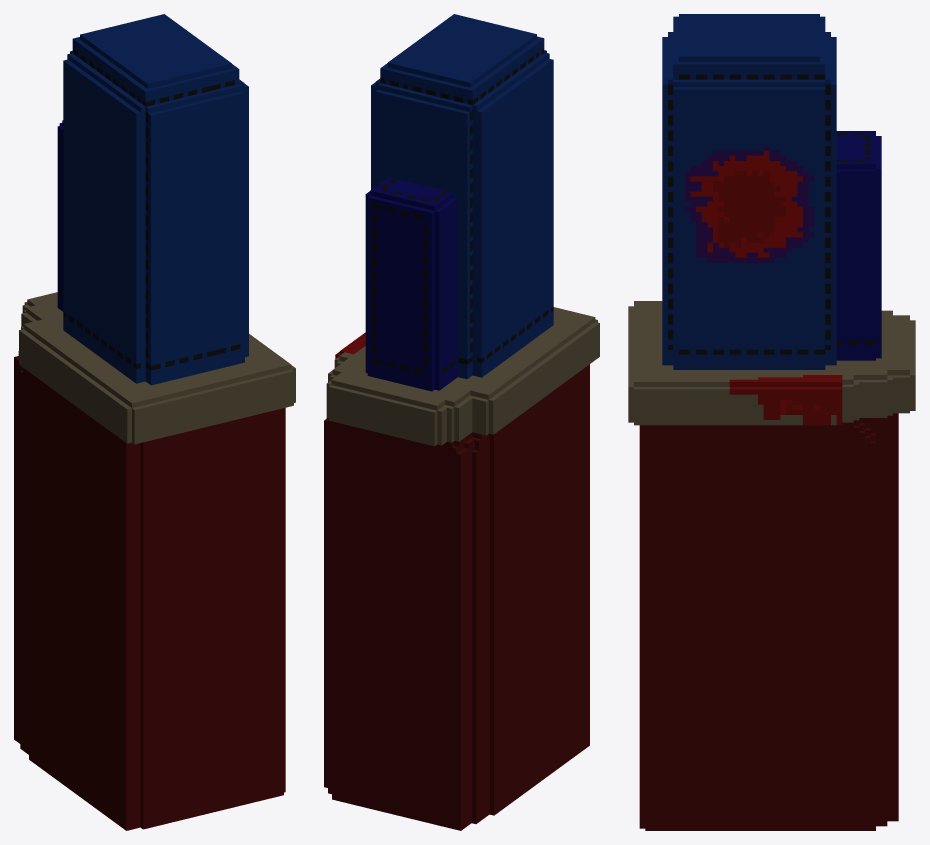
File: WinterGame-0.obj
3 views of the same model, side by side, from view 1: azimuth 30°, elevation 25°; view 2: azimuth 150°, elevation 25°; view 3: azimuth 270°, elevation 25° (orthographic). The views are drawn at different scales.
Size of the model in its own units: 3.6 by 14.8 by 5.1.
Materials: 1 (1 with a texture image).
